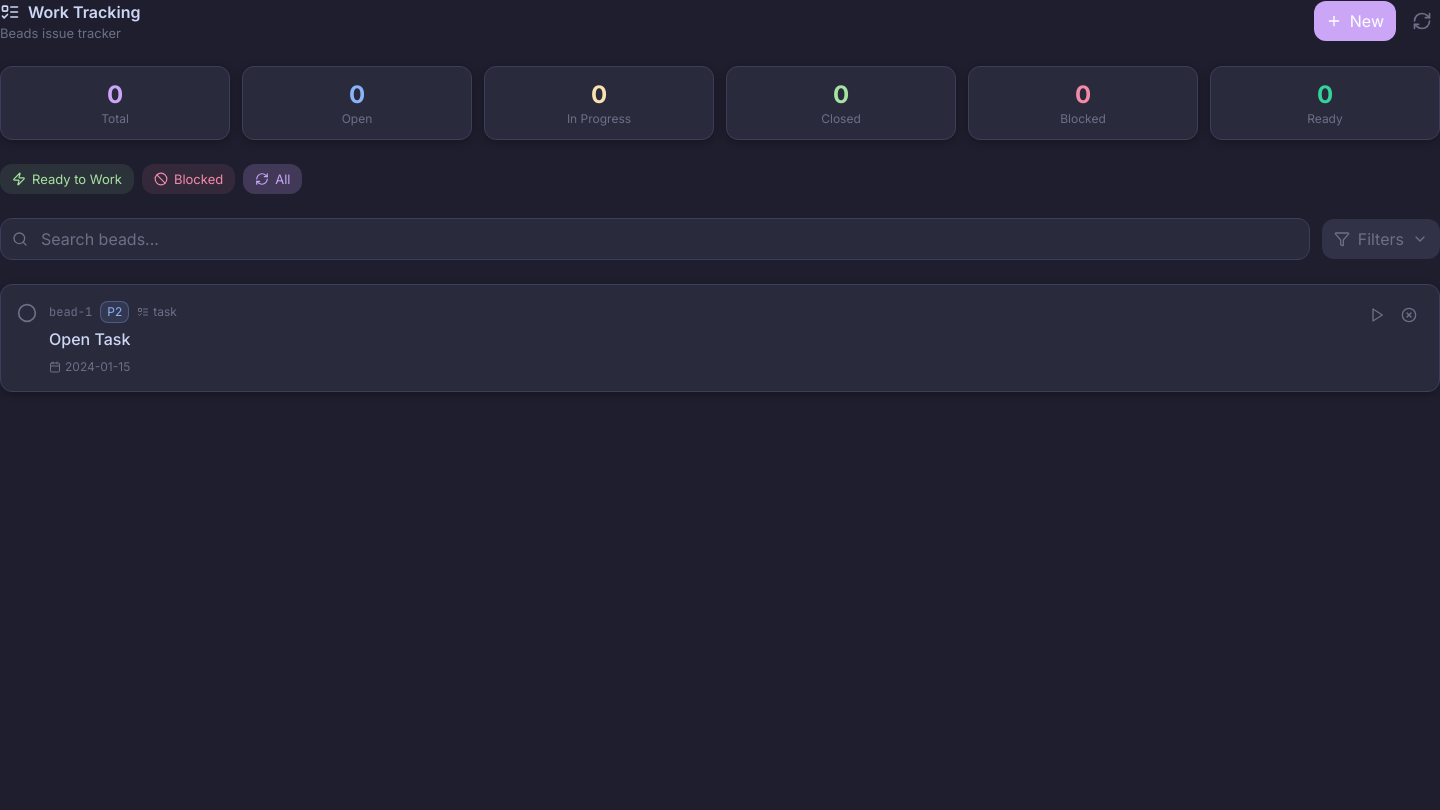
BeadDetailModal › shows start work button for open beads
Note: Open detail modal
Click the heading "Open Task" at (90, 339), box top-left (49, 329), bottom-right (130, 349)
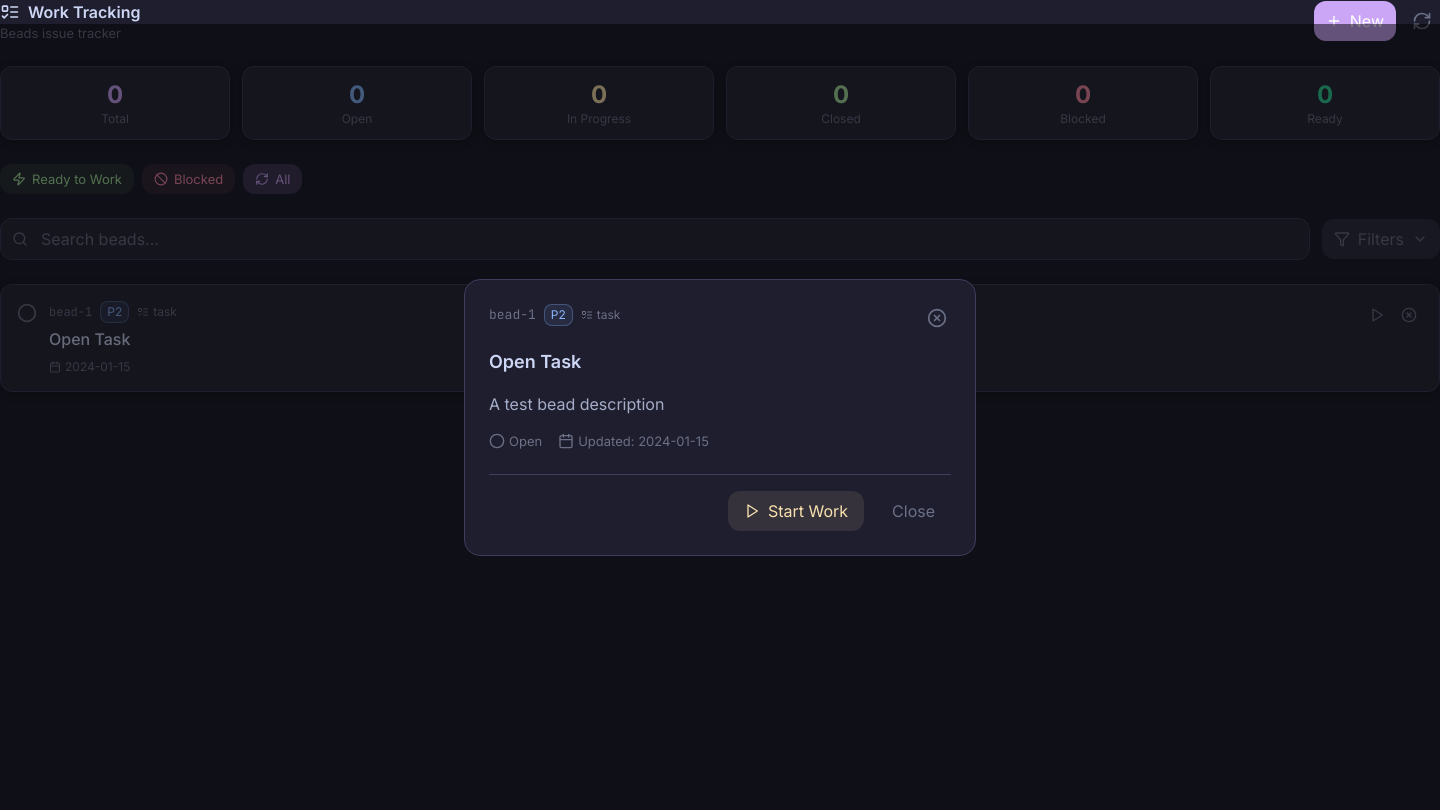
Expected: the button "Start Work" is shown, top-left (728, 490), bottom-right (864, 530)
